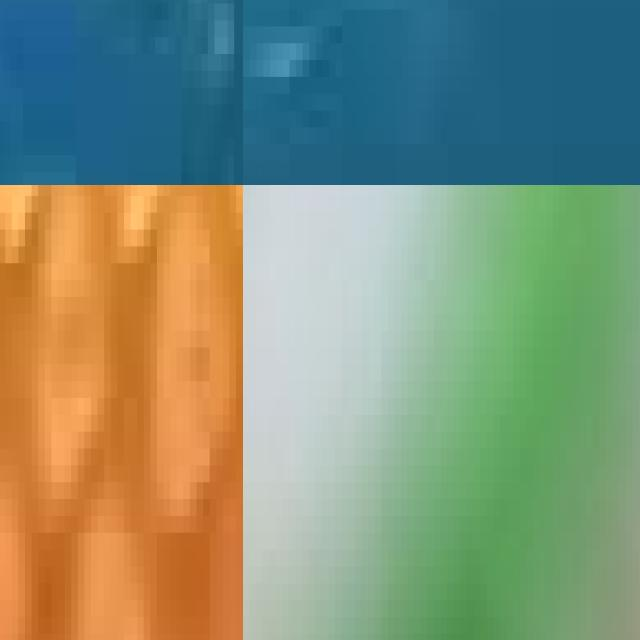fish: (0, 185, 243, 640), (0, 0, 243, 185)
